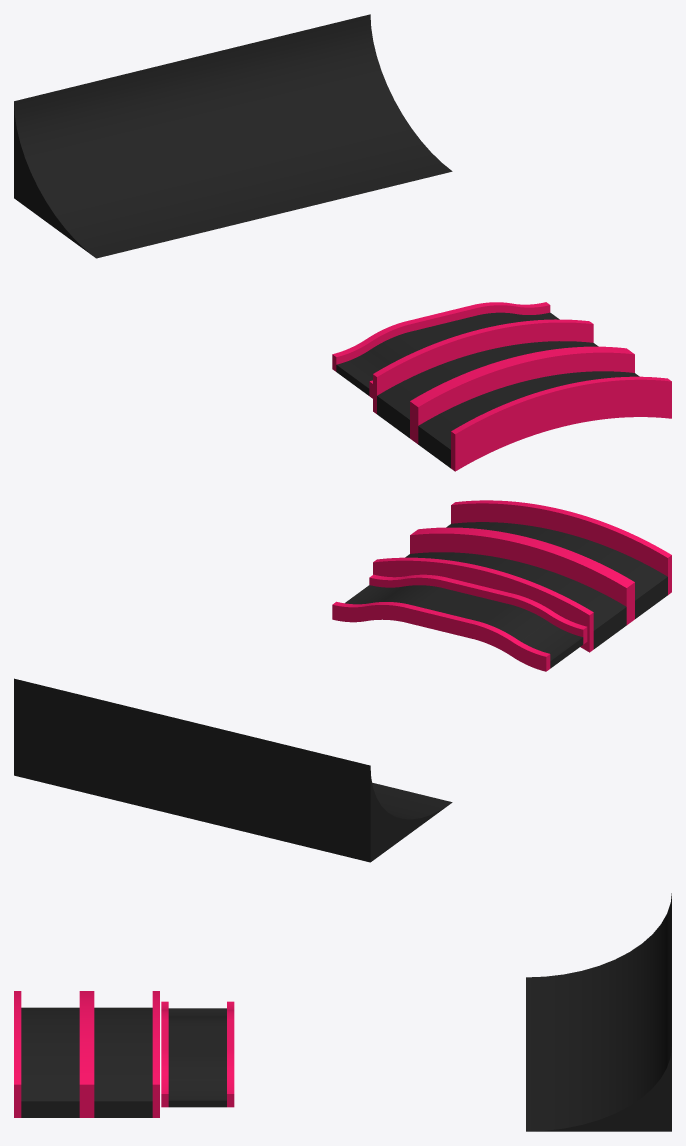
Rendered from e23_Sandbox.fbx.
The picture shows the model from 3 angles, top to bottom: view 1: azimuth 30°, elevation 25°; view 2: azimuth 150°, elevation 25°; view 3: azimuth 270°, elevation 25°; orthographic projection. The views are drawn at different scales.
Parts seen in each view (by area): view 1: halfPipe_half, bump (×2), slope_smoothA (×2), straight; view 2: halfPipe_half, bump (×2), slope_smoothA (×2), straight; view 3: halfPipe_half, bump (×2), slope_smoothA (×2), straight.
Part boxes in pixels (box(x1,y1,x2,y2)): halfPipe_half: box(14, 14, 452, 258); bump (×2): box(373, 319, 671, 471); slope_smoothA (×2): box(332, 302, 559, 398); straight: box(404, 304, 493, 346); halfPipe_half: box(14, 678, 452, 862); bump (×2): box(373, 500, 671, 652); slope_smoothA (×2): box(332, 574, 587, 671); straight: box(403, 577, 515, 639); halfPipe_half: box(526, 893, 671, 1131); bump (×2): box(14, 991, 159, 1117); slope_smoothA (×2): box(161, 1001, 234, 1107); straight: box(161, 1019, 234, 1056).
Bounding box in the file's own units: 500 × 155 × 902.
